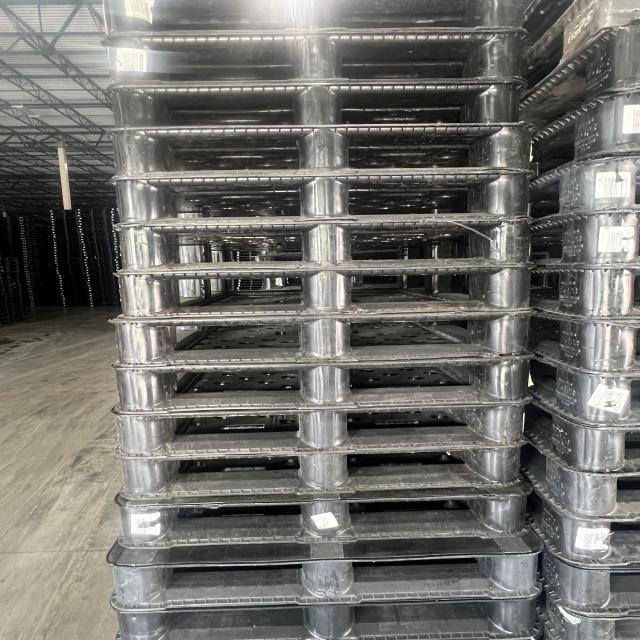igps: (101, 531, 558, 616), (109, 483, 536, 553), (105, 578, 552, 640), (105, 443, 536, 503), (104, 310, 546, 368), (106, 400, 543, 458), (105, 359, 540, 416), (94, 264, 546, 318), (106, 173, 550, 220), (93, 36, 537, 81), (100, 127, 542, 171), (106, 225, 546, 269), (92, 0, 530, 42), (95, 86, 538, 125), (509, 15, 640, 124), (511, 0, 640, 107), (515, 463, 640, 573), (521, 78, 640, 185), (523, 513, 640, 619), (518, 379, 640, 477), (517, 426, 640, 521), (518, 341, 640, 429), (519, 300, 640, 378), (520, 144, 640, 222), (518, 248, 640, 322), (524, 200, 640, 270), (532, 570, 640, 640), (75, 208, 107, 212), (6, 310, 23, 317), (85, 268, 114, 272), (48, 209, 76, 213), (52, 238, 80, 242), (54, 248, 82, 252), (75, 211, 107, 214), (80, 248, 112, 251), (18, 218, 34, 224), (0, 256, 19, 261), (4, 301, 23, 306), (76, 217, 107, 220), (77, 222, 108, 225), (77, 225, 108, 228), (79, 233, 110, 236), (80, 243, 111, 246), (81, 251, 112, 254), (0, 290, 23, 294), (78, 227, 108, 230), (78, 230, 108, 233), (80, 238, 110, 241), (85, 274, 115, 277), (0, 283, 22, 287), (85, 266, 114, 269), (86, 279, 115, 282), (87, 284, 116, 287), (88, 289, 117, 292), (89, 299, 118, 302), (90, 304, 119, 307), (54, 259, 83, 262), (57, 274, 86, 277), (84, 261, 112, 264), (49, 212, 77, 215), (52, 236, 80, 239), (54, 254, 82, 257), (55, 264, 83, 267), (0, 268, 21, 272), (49, 215, 76, 218), (51, 228, 78, 231), (51, 231, 78, 234), (53, 241, 80, 244), (54, 246, 81, 249), (18, 216, 34, 221), (0, 260, 20, 264), (0, 264, 20, 268), (0, 271, 20, 275), (0, 276, 20, 280), (3, 294, 23, 298), (3, 298, 23, 302), (50, 223, 76, 226), (5, 309, 24, 313), (5, 306, 23, 310), (0, 287, 23, 290), (76, 220, 108, 222), (80, 246, 112, 248), (18, 222, 34, 226), (18, 224, 34, 228), (19, 232, 35, 236), (19, 234, 35, 238), (20, 237, 36, 241), (20, 242, 36, 246), (24, 272, 40, 276), (0, 280, 21, 283), (76, 214, 107, 216), (81, 254, 112, 256), (79, 236, 109, 238), (80, 241, 110, 243), (83, 259, 113, 261), (54, 262, 84, 264), (55, 270, 85, 272), (83, 256, 112, 258), (84, 264, 113, 266), (85, 272, 114, 274), (86, 277, 115, 279), (86, 282, 115, 284), (89, 297, 118, 299), (53, 252, 82, 254), (54, 257, 83, 259), (55, 267, 84, 269), (56, 272, 85, 274), (88, 287, 116, 289), (89, 292, 117, 294), (89, 294, 117, 296), (90, 302, 118, 304), (48, 218, 76, 220), (53, 244, 81, 246), (52, 234, 79, 236), (50, 221, 76, 223), (52, 226, 78, 228), (21, 253, 38, 256), (22, 260, 39, 263), (22, 263, 39, 266), (19, 230, 35, 233), (20, 240, 36, 243), (21, 245, 37, 248), (21, 248, 37, 251), (22, 250, 38, 253), (22, 255, 38, 258), (23, 265, 39, 268), (25, 278, 41, 281), (19, 227, 34, 230), (24, 270, 39, 273), (22, 258, 38, 260), (23, 268, 39, 270), (24, 276, 40, 278), (26, 281, 41, 283)
